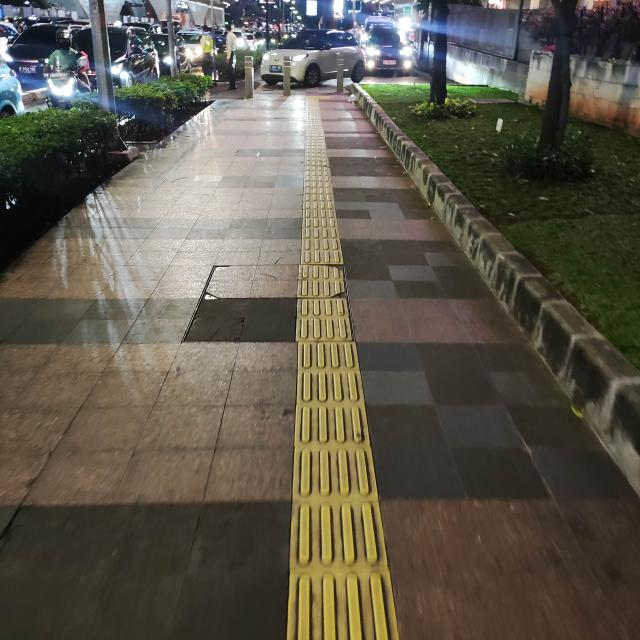lurus: (282, 129, 381, 640)
